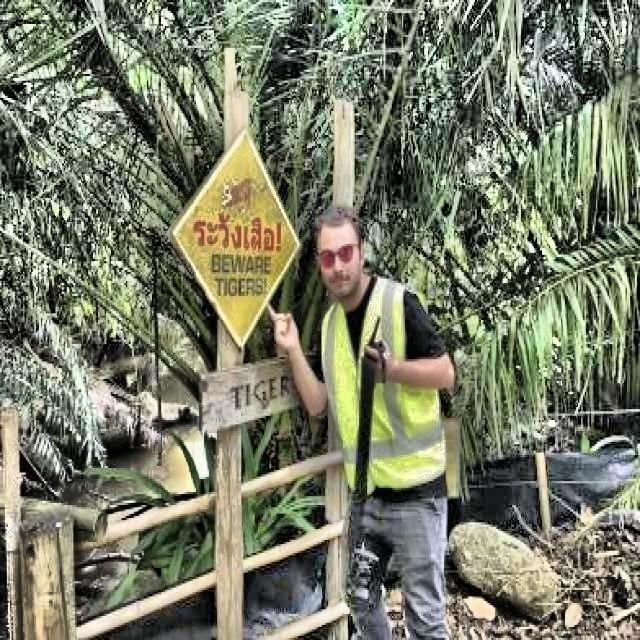safety_jacket: (320, 291, 422, 487)
